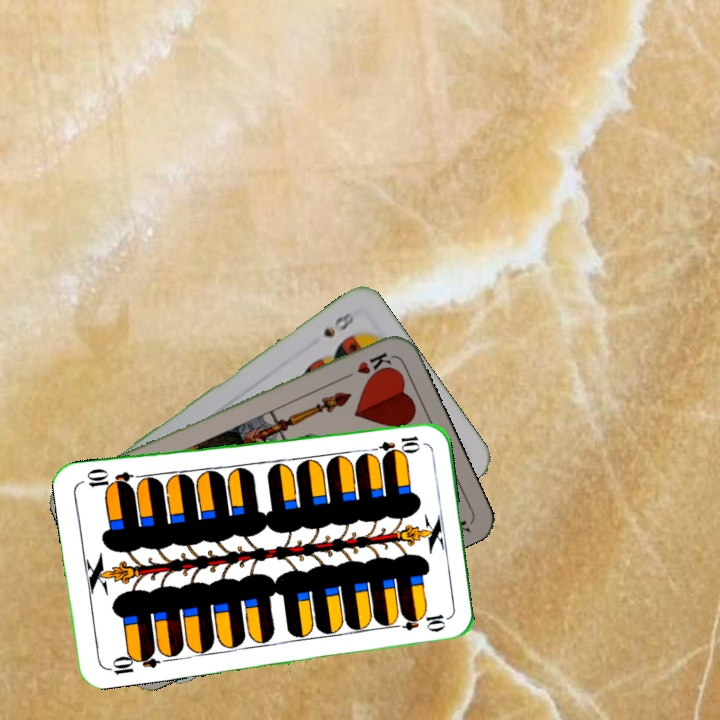E10: (102, 646, 161, 677), (365, 431, 423, 457)
HK: (337, 348, 393, 383)
S8: (318, 308, 357, 340)
